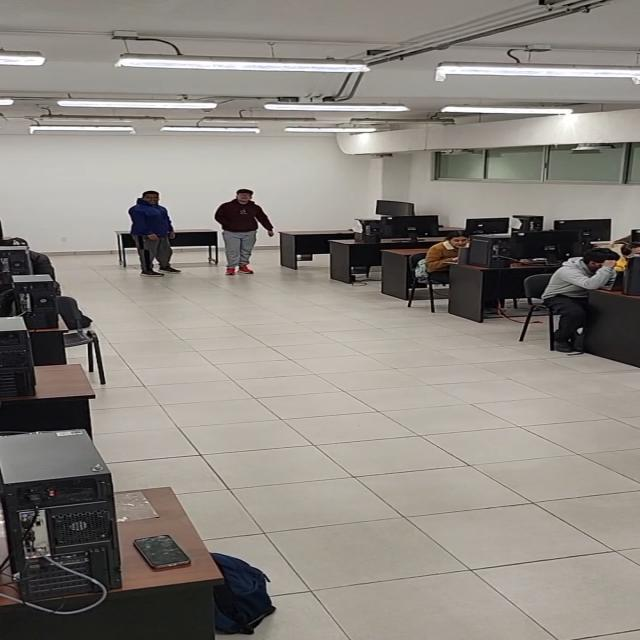Persona: (214, 188, 275, 276), (128, 190, 183, 276)
